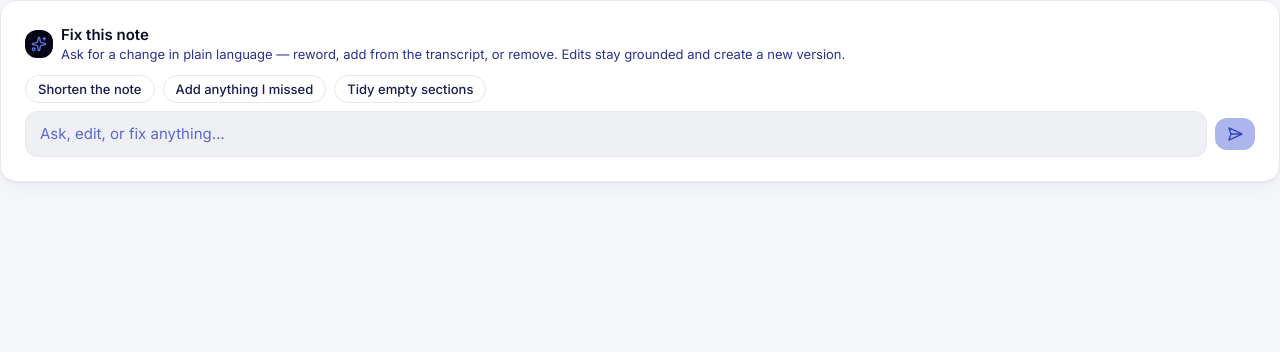
Test case: NoteAssistChat (fix this note) › surfaces the error IN the chat, not a page banner
This screenshot has width=1280, height=352.
Type "do it" into the field with placeholder "Ask, edit, or fix anything…" at (616, 134), box [25,111,1207,157]
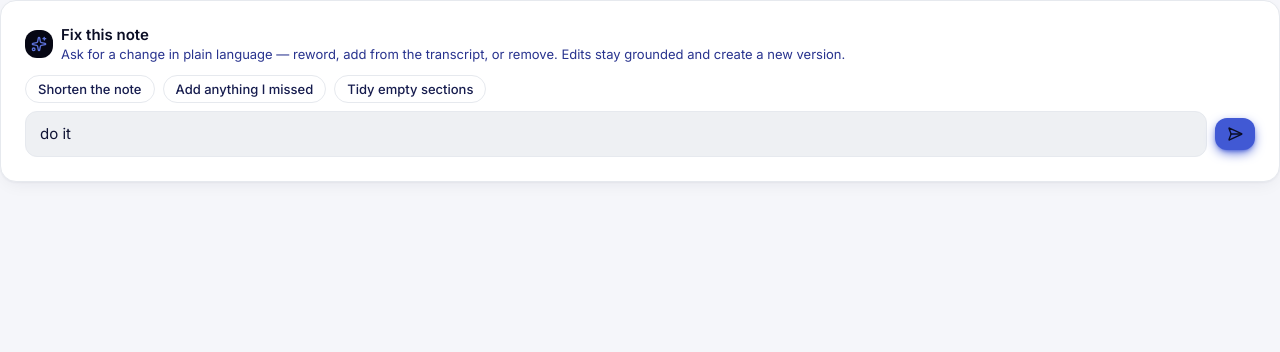
Click the button named "Send" at (1235, 134), box [1215,118,1255,150]
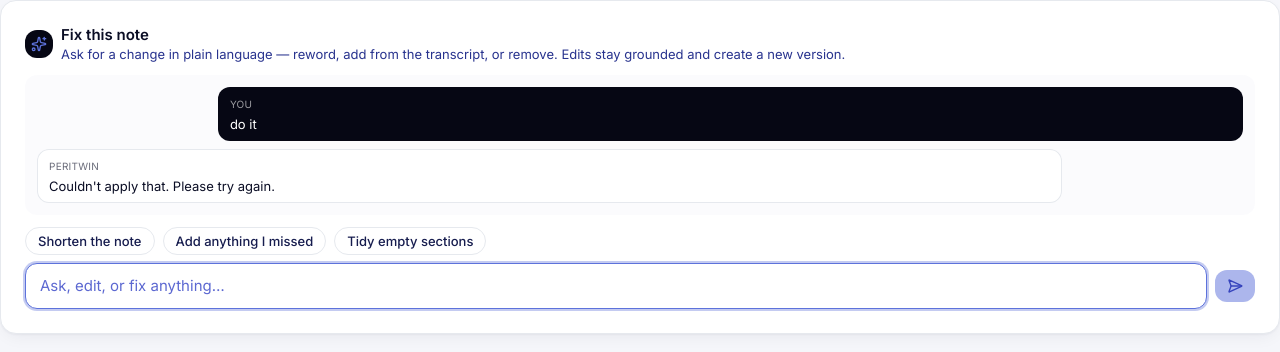
Expected: the text "Couldn't apply that. Please try again." is shown, [49,178,275,194]
